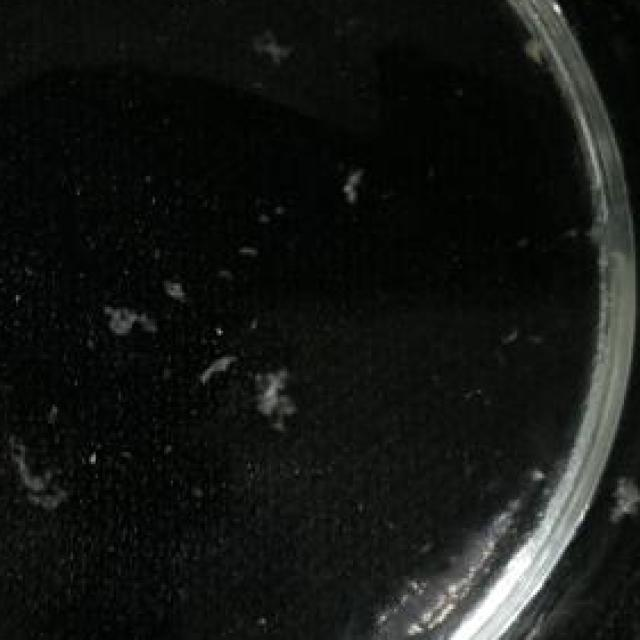Microplastic: (2, 435, 71, 526), (252, 369, 300, 440), (246, 19, 296, 74), (510, 24, 556, 81), (196, 333, 234, 400), (110, 298, 150, 336), (610, 476, 640, 523), (337, 174, 371, 214)
